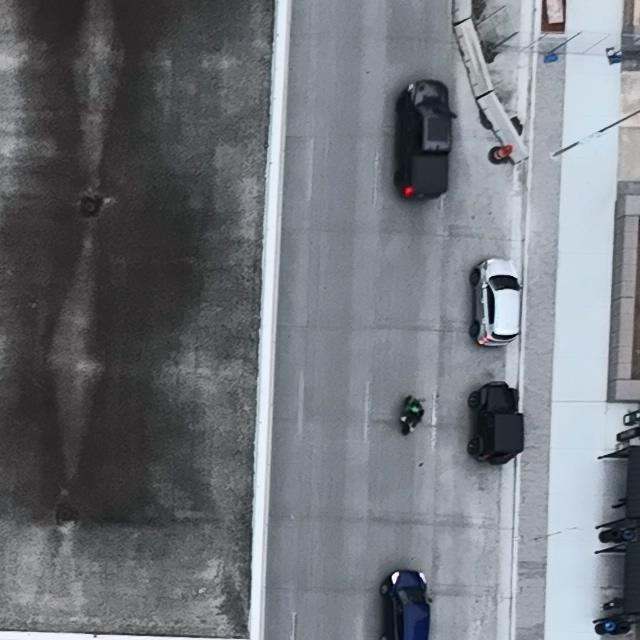car: (394, 81, 457, 202), (467, 380, 525, 467), (469, 258, 524, 348), (379, 571, 433, 640)
